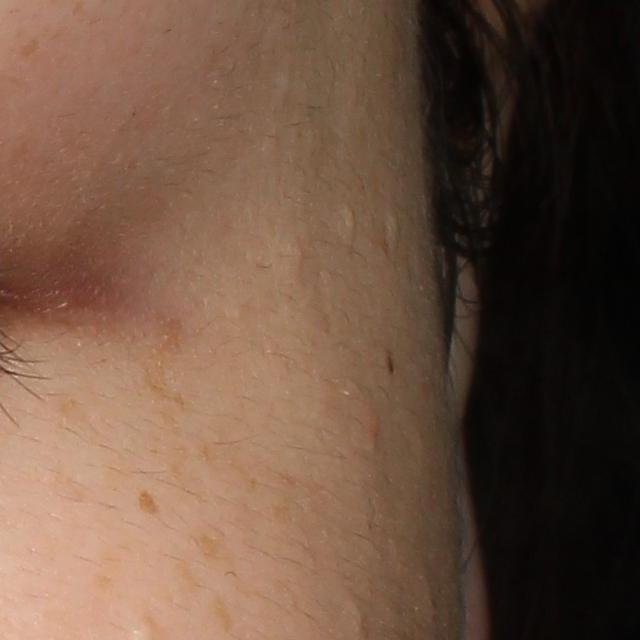melasma: (141, 316, 188, 411), (204, 590, 235, 634), (17, 38, 44, 59)
nevus: (384, 351, 398, 377)
papule: (362, 408, 383, 434)
